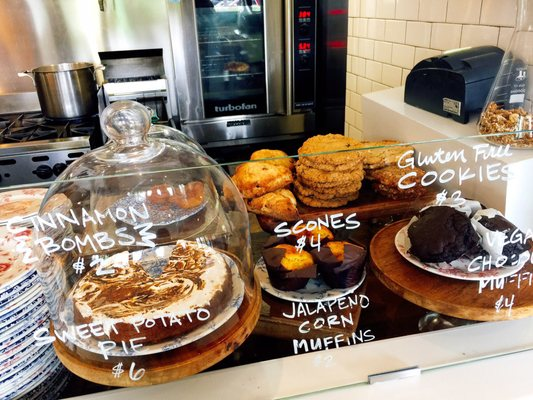burger: (165, 0, 347, 159), (0, 93, 99, 191)
pizza: (166, 0, 348, 158)
sandwich: (404, 45, 507, 125)
sushi: (50, 239, 245, 355), (407, 205, 484, 265), (294, 150, 365, 209), (262, 242, 317, 291), (313, 240, 367, 289)
